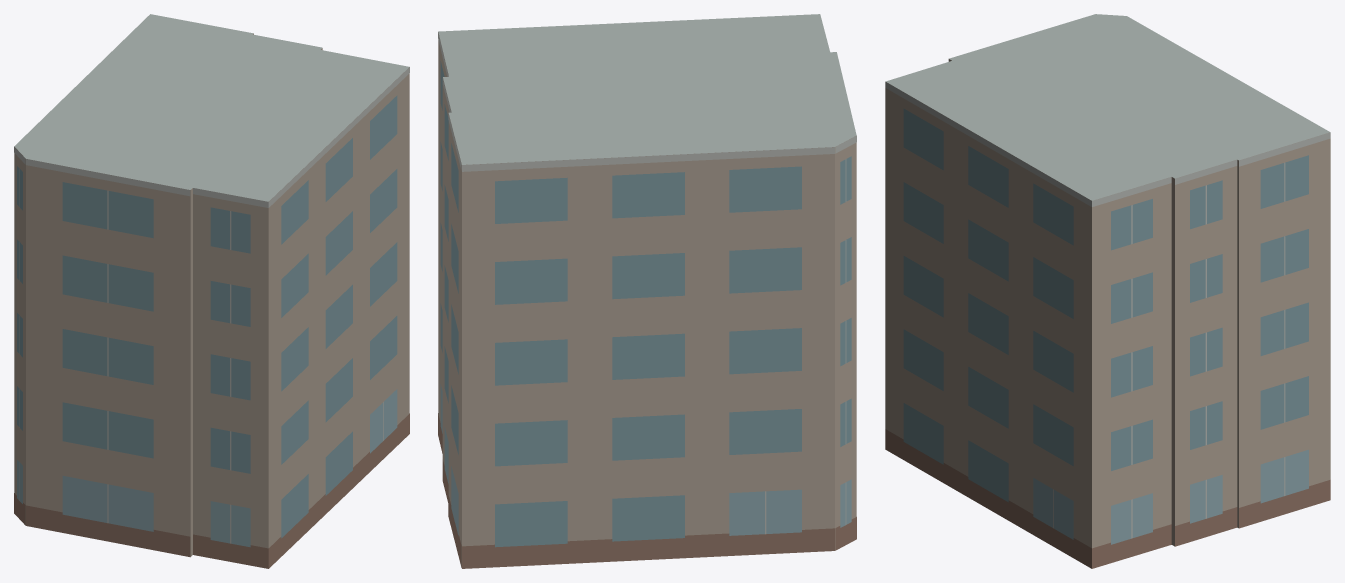
File: survey-upis-32536468.glb
3 renders of one model, left to right at view 1: azimuth 30°, elevation 25°; view 2: azimuth 150°, elevation 25°; view 3: azimuth 270°, elevation 25°, orthographic. The views are drawn at different scales.
Visible parts, largest first — view 1: survey-upis-32536468.tmp; view 2: survey-upis-32536468.tmp; view 3: survey-upis-32536468.tmp.
Part boxes in pixels (<box>): survey-upis-32536468.tmp: <box>14,14,409,568</box>; survey-upis-32536468.tmp: <box>438,14,856,568</box>; survey-upis-32536468.tmp: <box>885,14,1330,568</box>.
Size of the model in its own units: 15.47 by 14.2 by 15.57.
